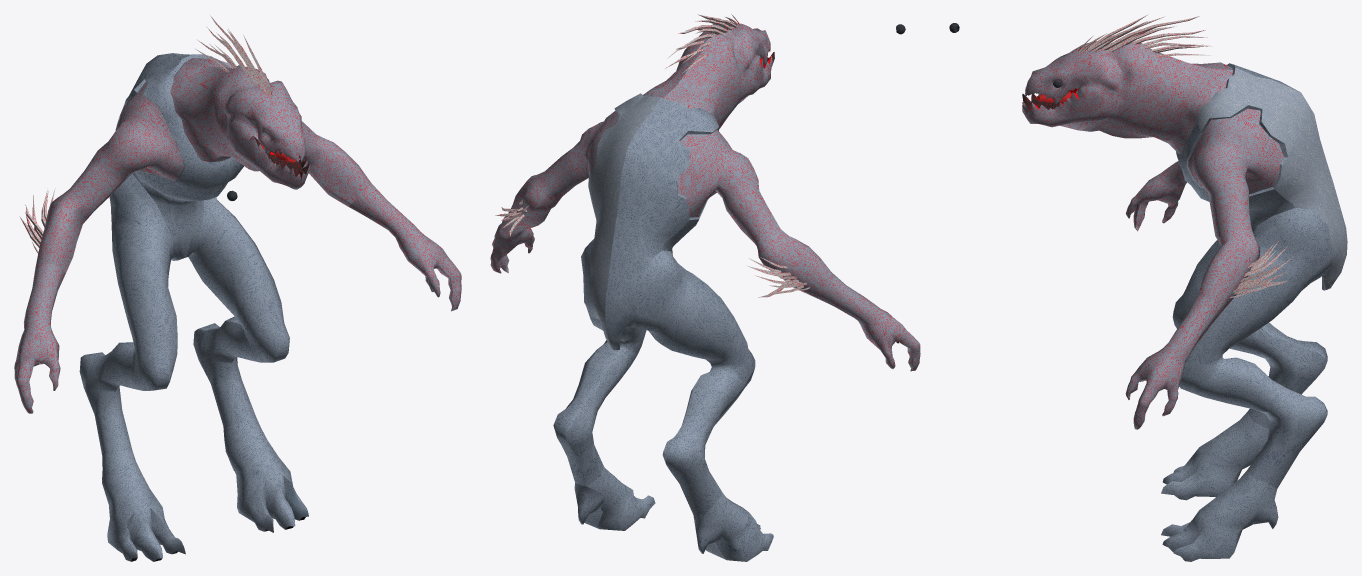
Rendered from alienBoss.dae.
The picture shows the model from 3 angles, left to right: view 1: azimuth 30°, elevation 25°; view 2: azimuth 150°, elevation 25°; view 3: azimuth 270°, elevation 25°; orthographic projection. The views are drawn at different scales.
Parts seen in each view (by area): view 1: StormJackal.jackalbasev2.smd.mesh_1 (×8), StormJackal.jackalbasev2.smd.mesh_0 (×4); view 2: StormJackal.jackalbasev2.smd.mesh_1 (×6), StormJackal.jackalbasev2.smd.mesh_0 (×4); view 3: StormJackal.jackalbasev2.smd.mesh_1 (×6), StormJackal.jackalbasev2.smd.mesh_0 (×3).
Boxes of the visible parts, <box> form: StormJackal.jackalbasev2.smd.mesh_1 (×8): <box>79,53,307,561</box>; StormJackal.jackalbasev2.smd.mesh_0 (×4): <box>14,58,461,413</box>; StormJackal.jackalbasev2.smd.mesh_1 (×6): <box>553,93,773,561</box>; StormJackal.jackalbasev2.smd.mesh_0 (×4): <box>490,23,920,371</box>; StormJackal.jackalbasev2.smd.mesh_1 (×6): <box>1161,67,1347,561</box>; StormJackal.jackalbasev2.smd.mesh_0 (×3): <box>1022,43,1283,429</box>.
Size of the model in its own units: 63.75 by 51.29 by 71.72.
